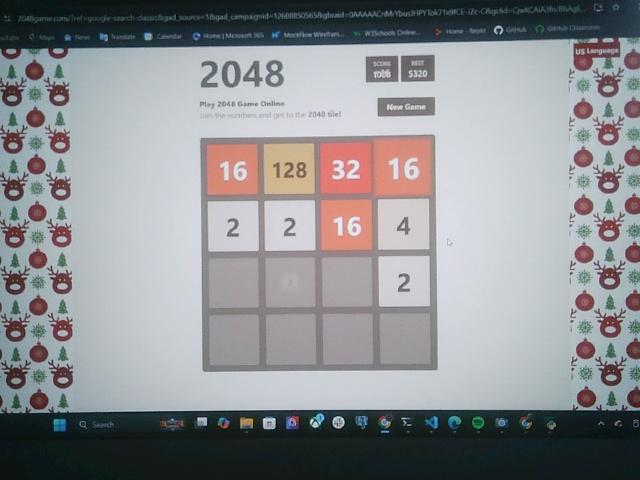board: (202, 137, 437, 372)
tile: (376, 139, 431, 194), (321, 143, 373, 194), (321, 200, 373, 251), (378, 199, 430, 250), (208, 201, 259, 252), (379, 256, 431, 306), (208, 145, 259, 195), (265, 143, 314, 194), (265, 202, 316, 251)
